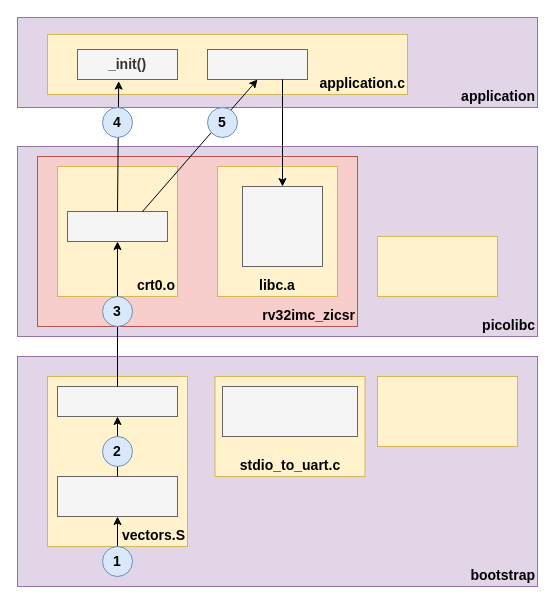
This 555x604 diagram has some shape labels left out. The shapes that lost their labels are listed below. From the top down, each one's centre as x and y in pixels, then its label:
(257,64): main()
(117,226): _start
(282,226): printf()/ scanf()/ memset()/ ...
(437,266): picolibc.specs
(117,401): _reset_handler
(290,411): uart_putc() uart_getc()
(447,411): link_imem_boot .ld
(117,496): Reset Vector (offset 0x80)
